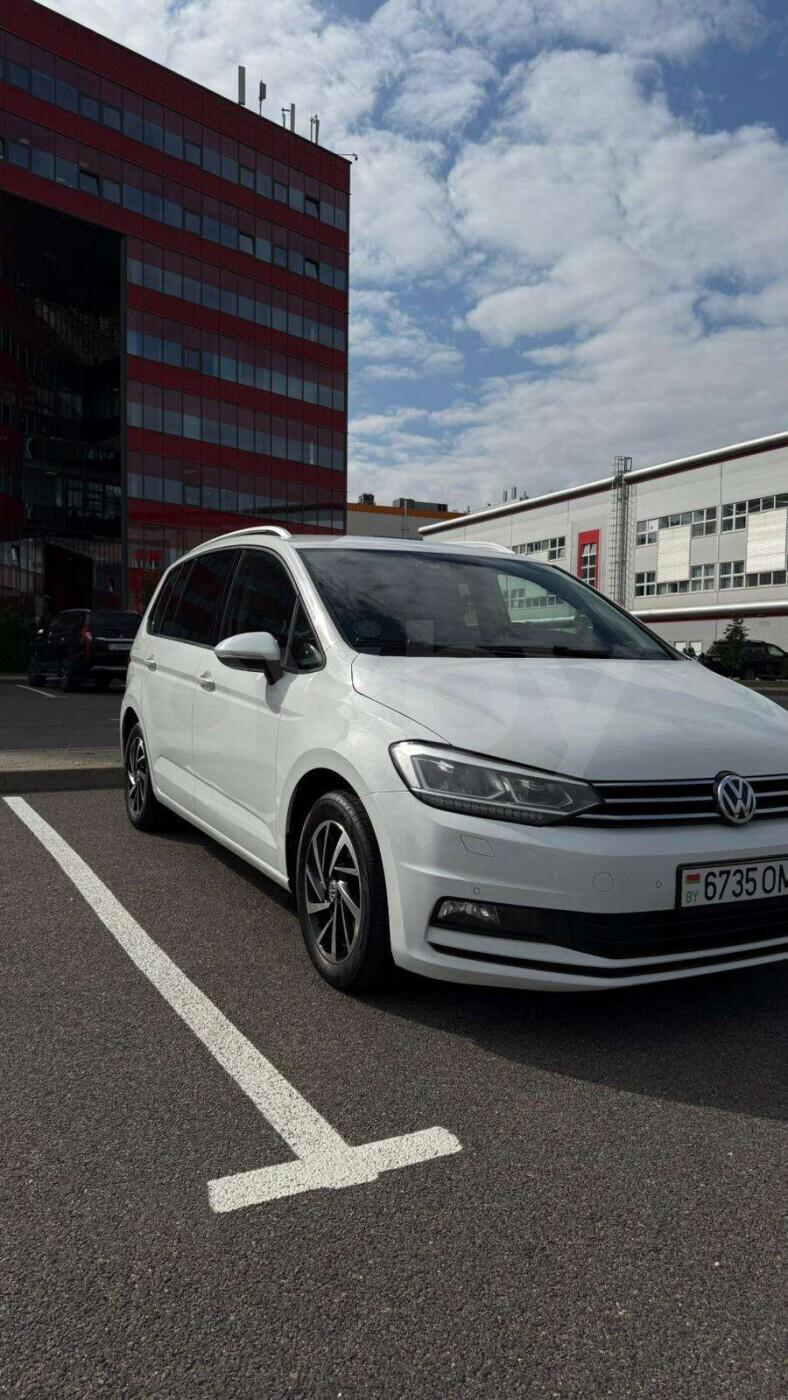Touran_2015: (122, 520, 788, 996)
